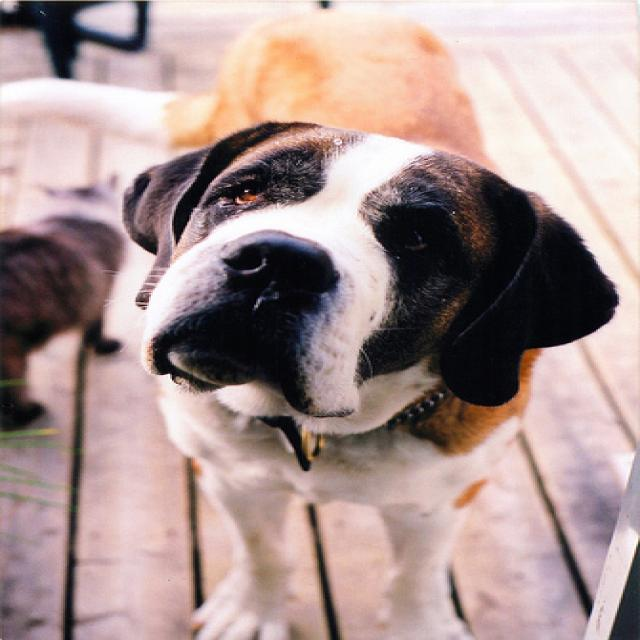dog-saint_bernard: (2, 6, 634, 637)
